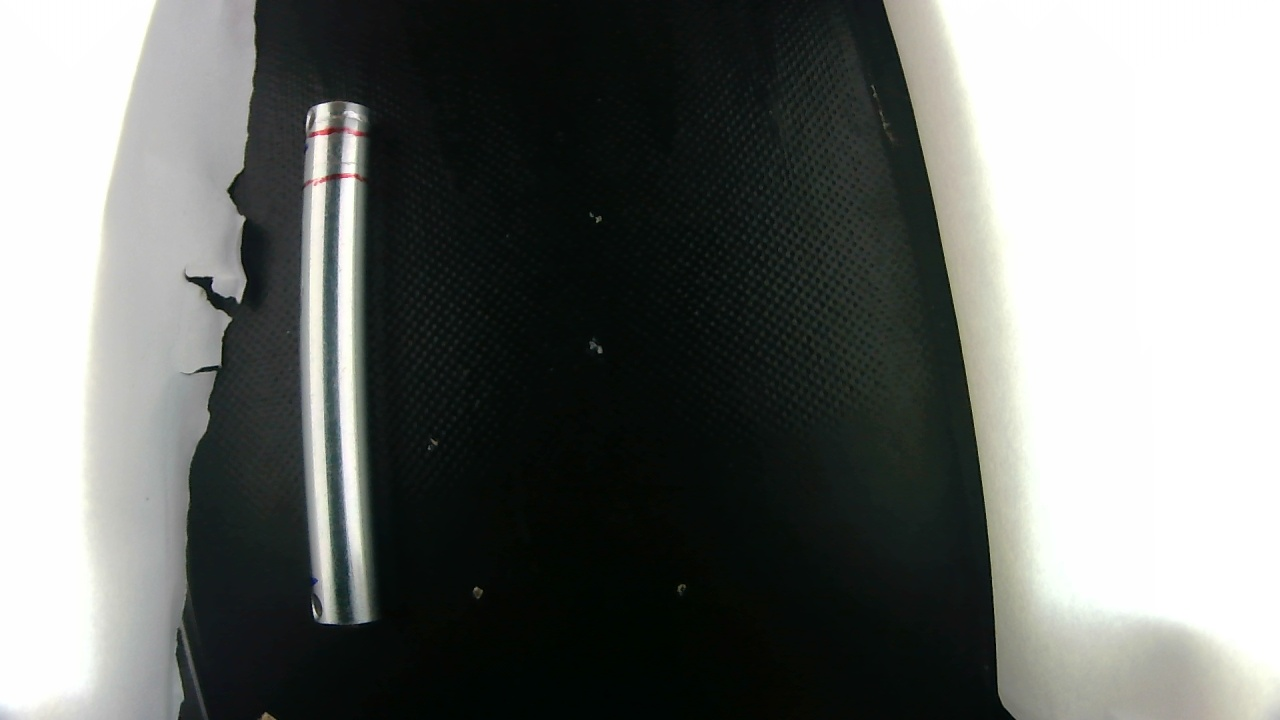odlinemark_pin: (309, 102, 370, 127)
